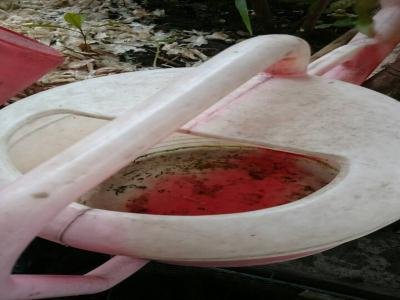bowl: (1, 33, 400, 263)
